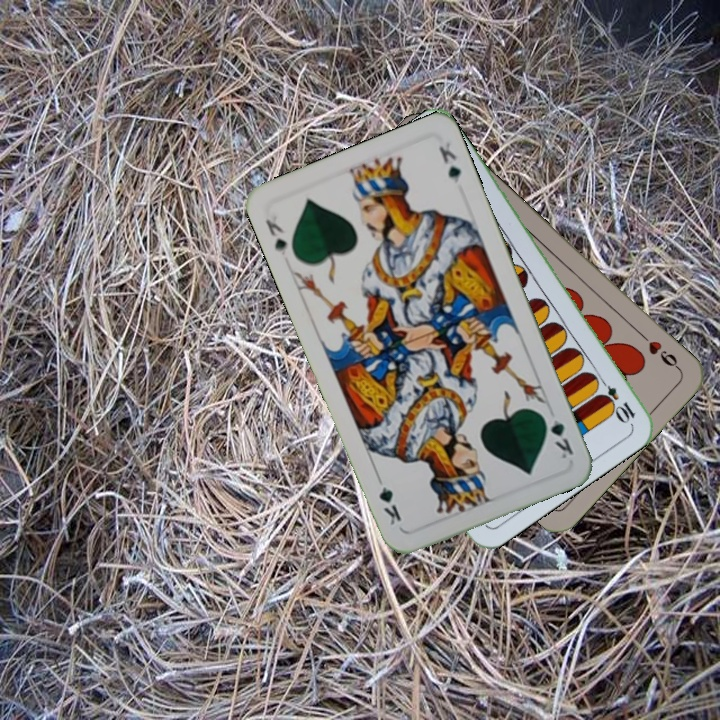E10: (593, 372, 638, 425)
GK: (538, 409, 576, 462), (261, 215, 290, 258)
H9: (635, 328, 683, 373)
